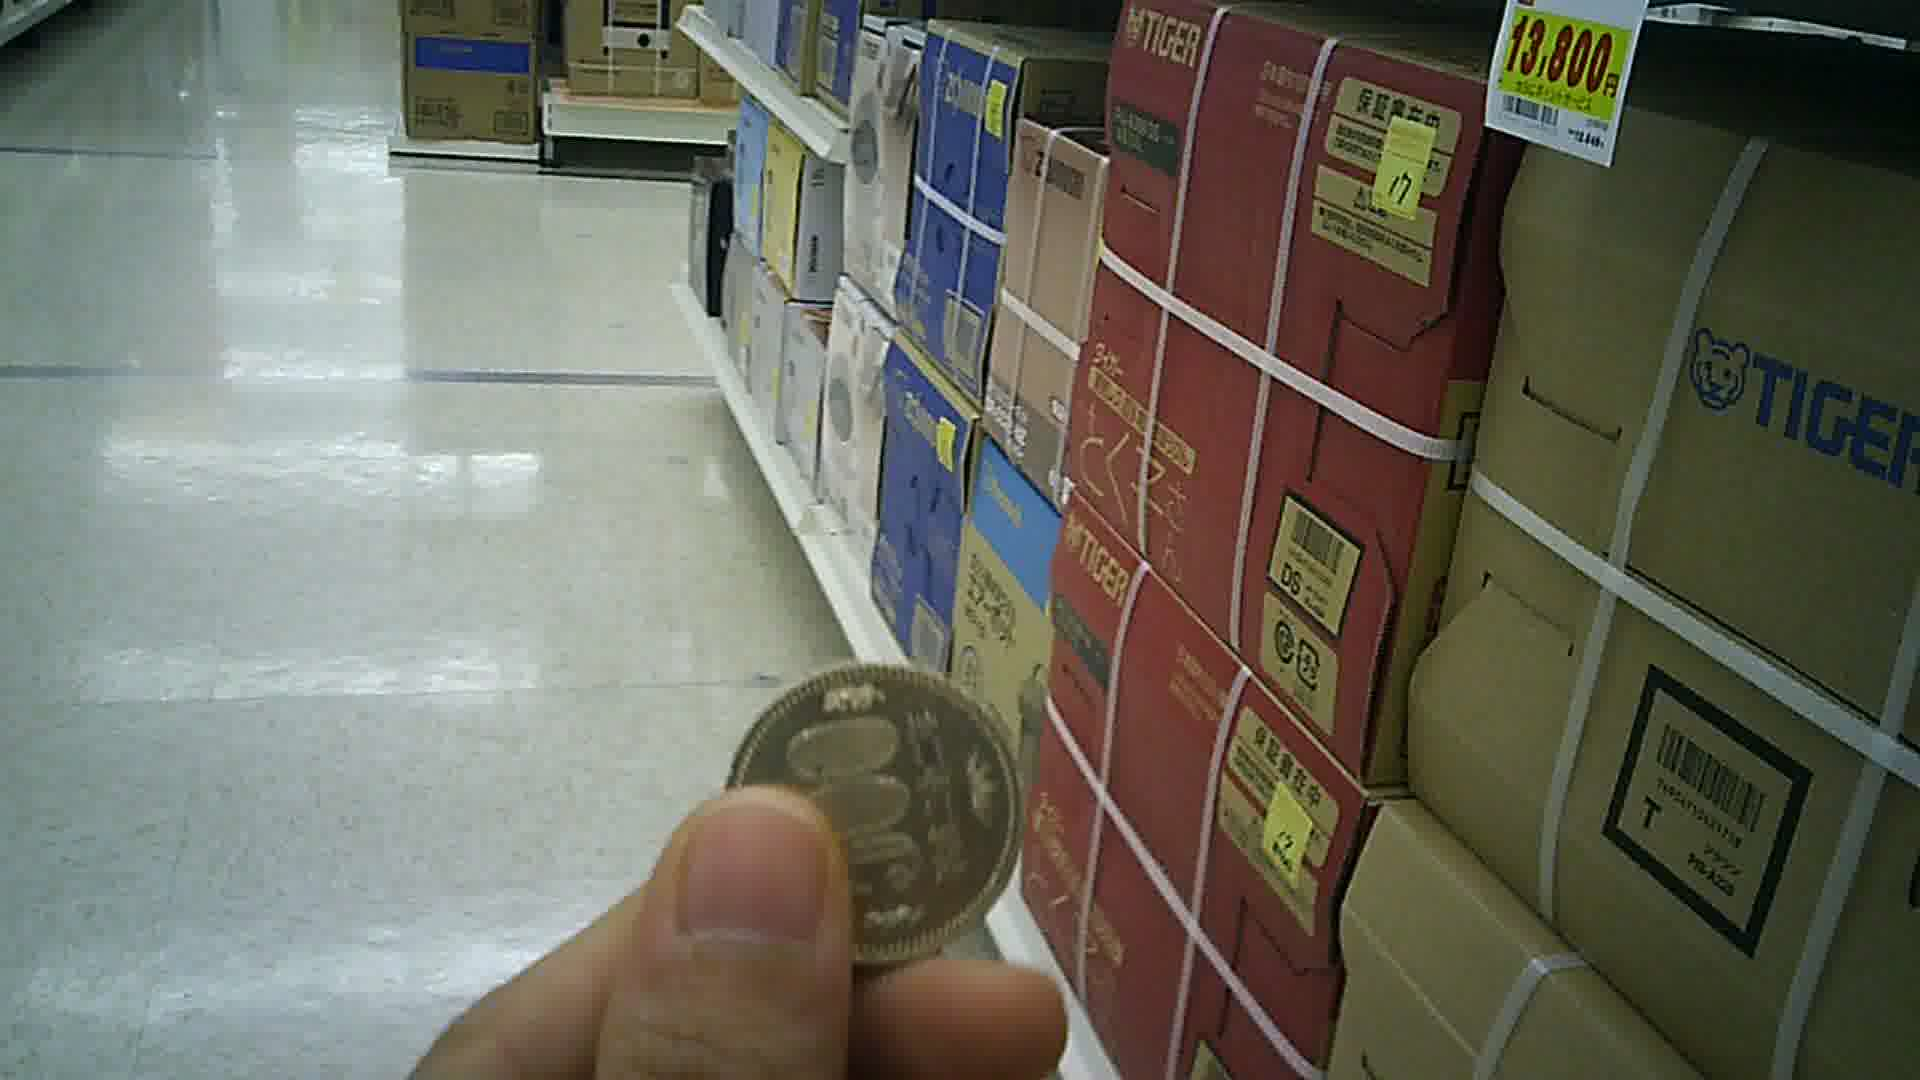500 Yen: (713, 651, 1030, 977)
